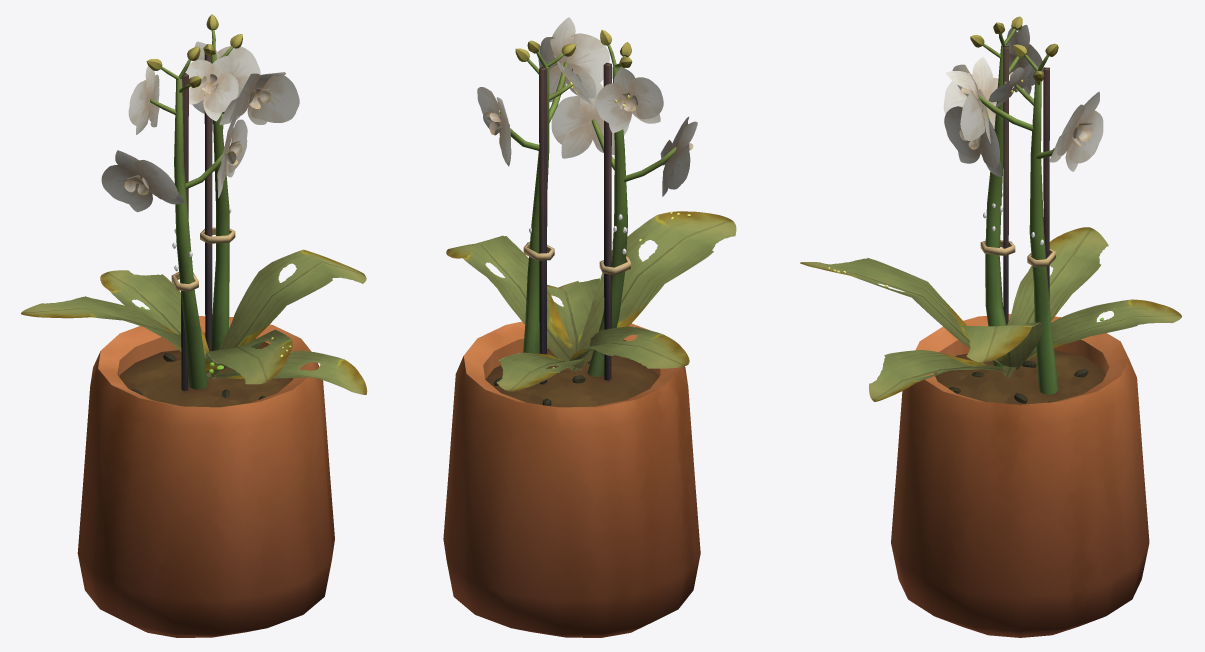
Rendered from MDL_OrchidPestCheck.fbx.
3 views of the same model, side by side, from view 1: azimuth 30°, elevation 25°; view 2: azimuth 150°, elevation 25°; view 3: azimuth 270°, elevation 25° (orthographic).
Visible parts, largest first — view 1: MDL_OrchidPestCheck; view 2: MDL_OrchidPestCheck; view 3: MDL_OrchidPestCheck.
Part boxes in pixels (bbox=[...]): MDL_OrchidPestCheck: bbox=[21, 14, 367, 637]; MDL_OrchidPestCheck: bbox=[443, 17, 736, 637]; MDL_OrchidPestCheck: bbox=[800, 16, 1181, 637].
Size of the model in its own units: 45.55 by 80.75 by 51.57.
